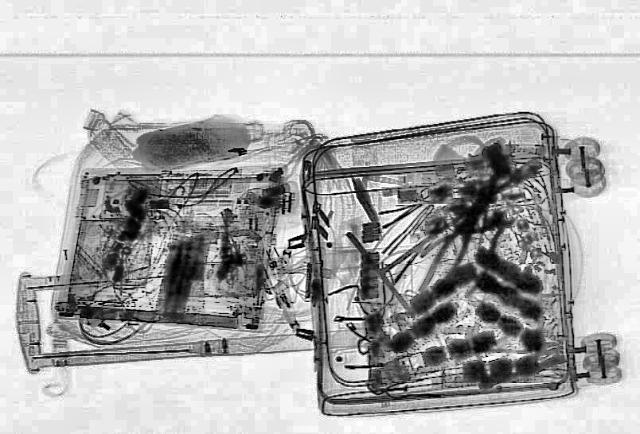Pliers: (416, 212, 486, 294)
